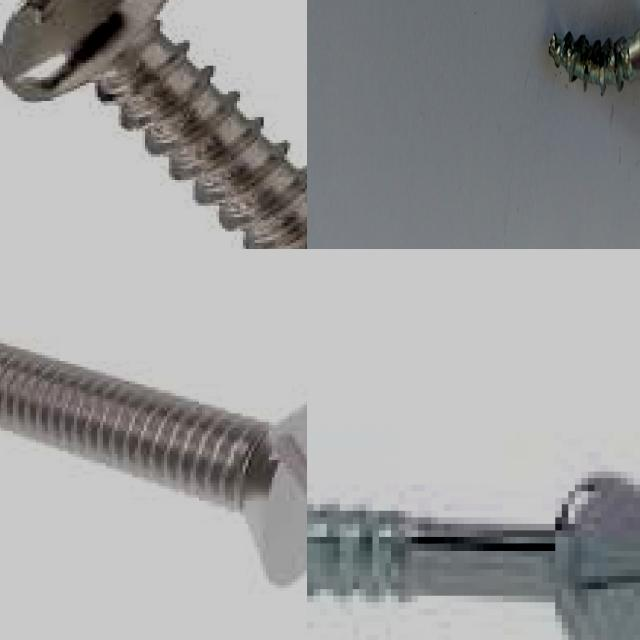Screw: (0, 0, 307, 249), (0, 342, 307, 591), (307, 478, 640, 640), (548, 26, 640, 95)
